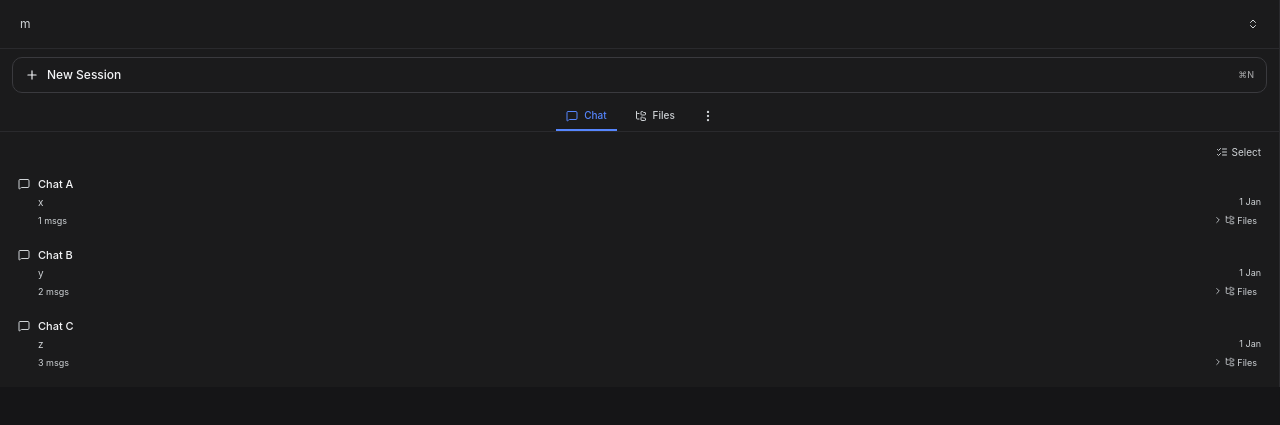
Test case: LeftPanel multi-select › exit clears selection and returns to the Select affordance
Click the button with test id "select-chats": (1238, 152) 1210,140 -> 1267,164
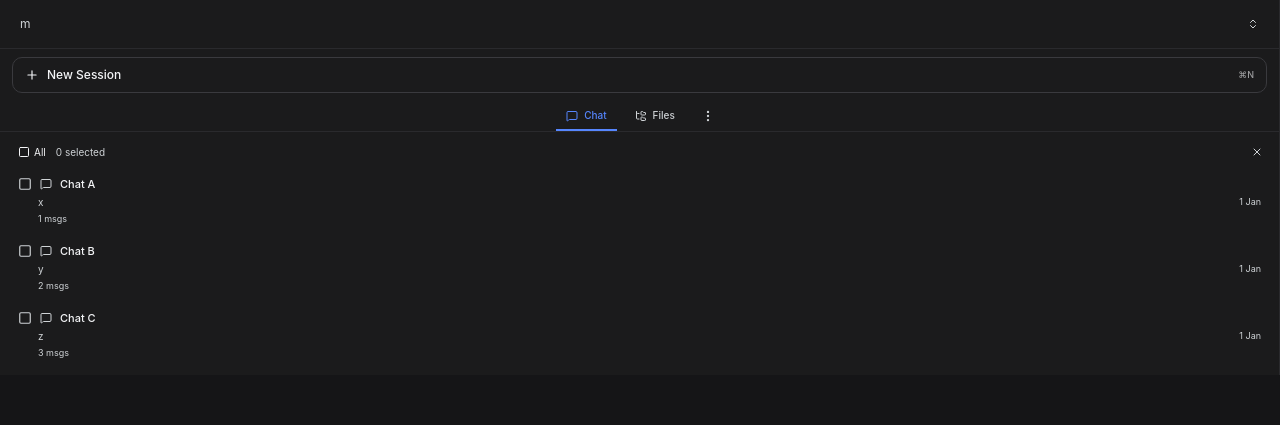
Click the element with test id "session-row" showing "Chat B y 1 Jan 2 msgs": (77, 251) 8,235 -> 1271,300
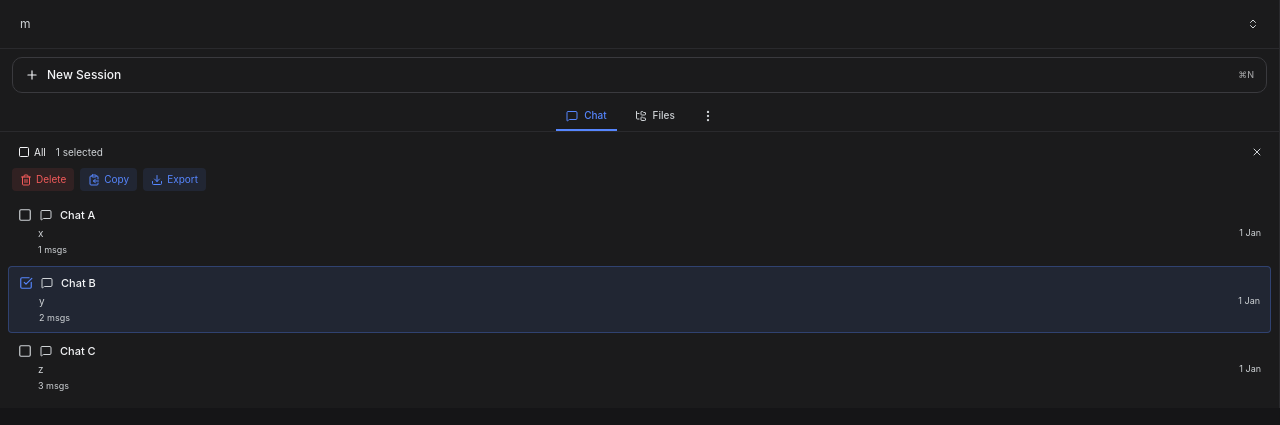
Expected: the text with test id "selected-count" reads "1 selected", 56,144 -> 103,160
Click the button named "Exit selection": (1257, 152) 1247,142 -> 1267,162
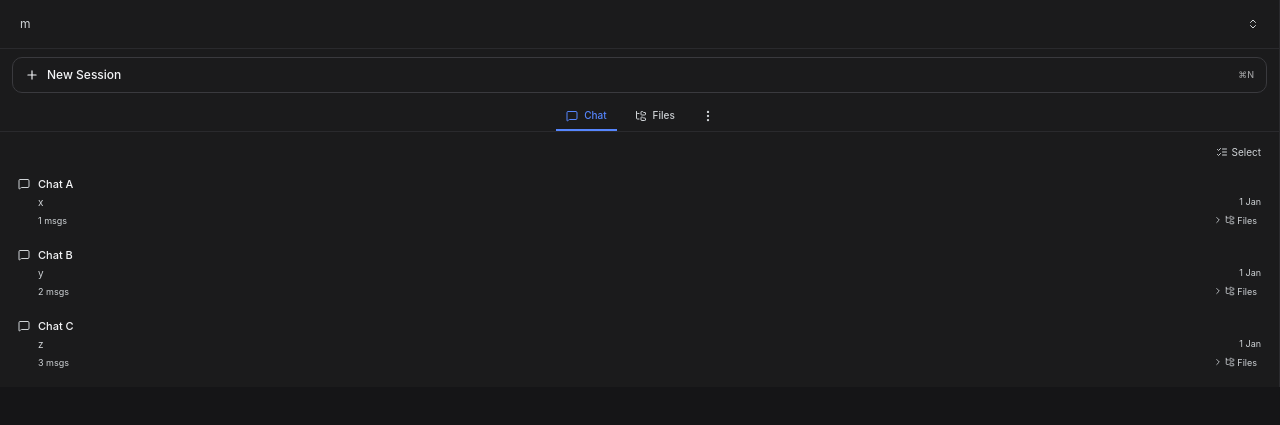
Expected: the text with test id "selected-count" is gone
Expected: the button with test id "select-chats" is shown, 1210,140 -> 1267,164
